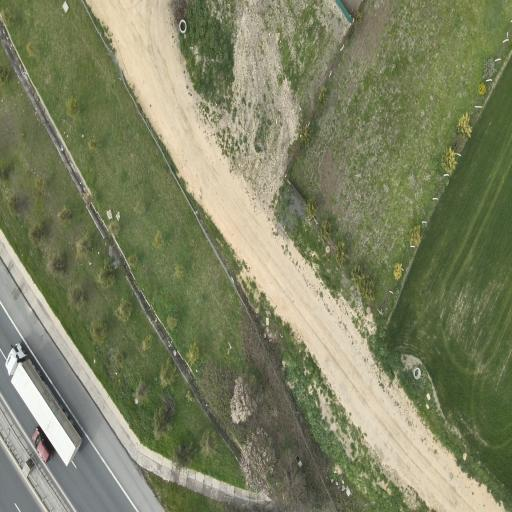car: (33, 427, 53, 463)
truck: (6, 344, 82, 465)
